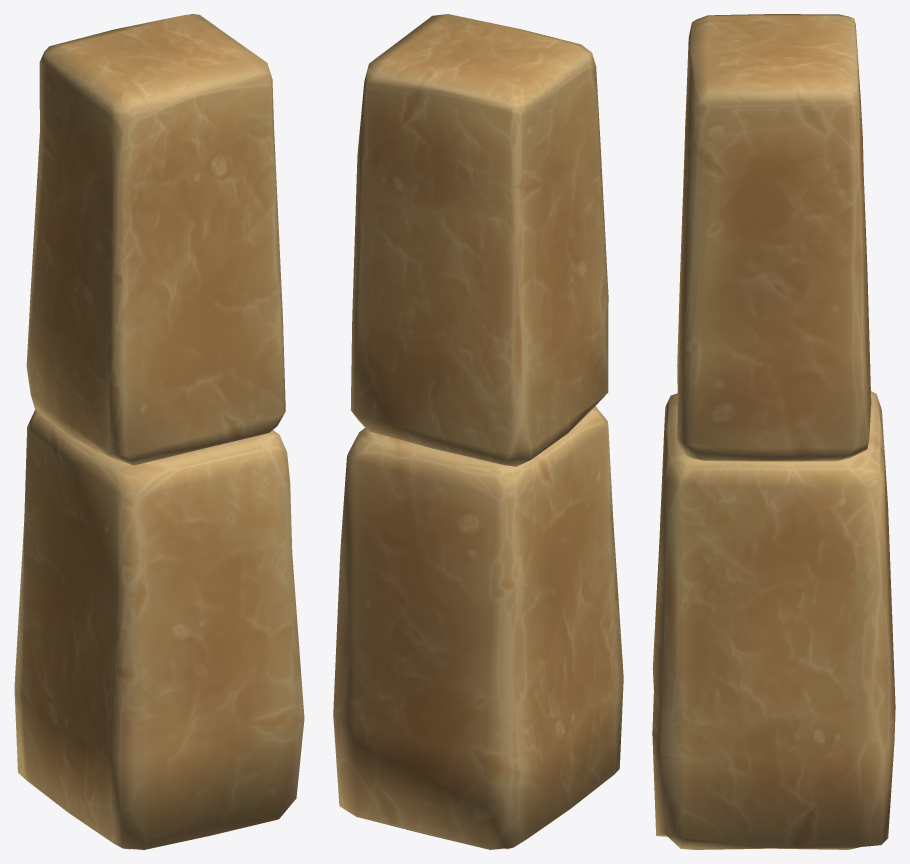
Rendered from StoneColumn.fbx.
The picture shows the model from 3 angles, left to right: view 1: azimuth 30°, elevation 25°; view 2: azimuth 150°, elevation 25°; view 3: azimuth 270°, elevation 25°; orthographic projection. The views are drawn at different scales.
Parts seen in each view (by area): view 1: StoneColumn_LP; view 2: StoneColumn_LP; view 3: StoneColumn_LP.
Part boxes in pixels (left/top/right/bottom): StoneColumn_LP: left=14, top=14, right=304, bottom=849; StoneColumn_LP: left=333, top=14, right=623, bottom=849; StoneColumn_LP: left=652, top=14, right=895, bottom=849.
Size of the model in its own units: 160 by 176 by 610.
